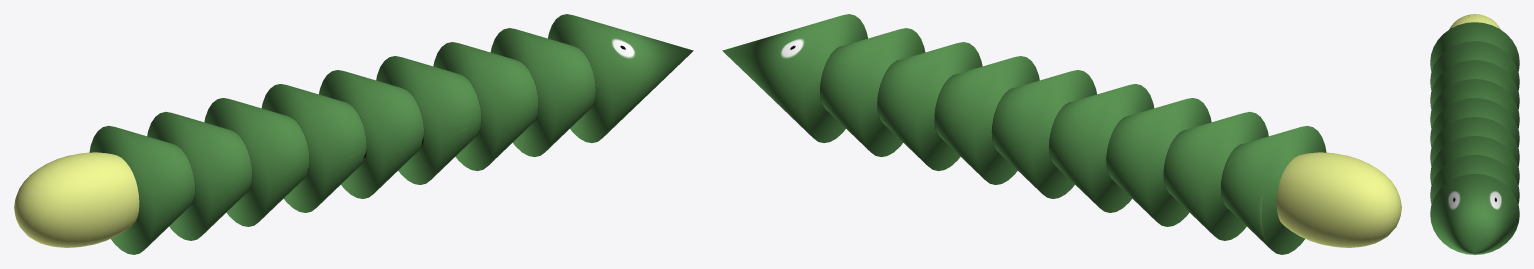
The model's file is Lavicu.fbx.
The picture shows the model from 3 angles, left to right: view 1: azimuth 30°, elevation 25°; view 2: azimuth 150°, elevation 25°; view 3: azimuth 270°, elevation 25°; orthographic projection. The views are drawn at different scales.
Visible parts, largest first — view 1: Cone.002; view 2: Cone.002; view 3: Cone.002.
Boxes of the visible parts, left/top/right/bottom form: Cone.002: left=14, top=14, right=693, bottom=254; Cone.002: left=722, top=14, right=1401, bottom=254; Cone.002: left=1430, top=14, right=1519, bottom=254.
Bounding box in the file's own units: 11.79 × 2 × 2.
1 material, 1 textured.
